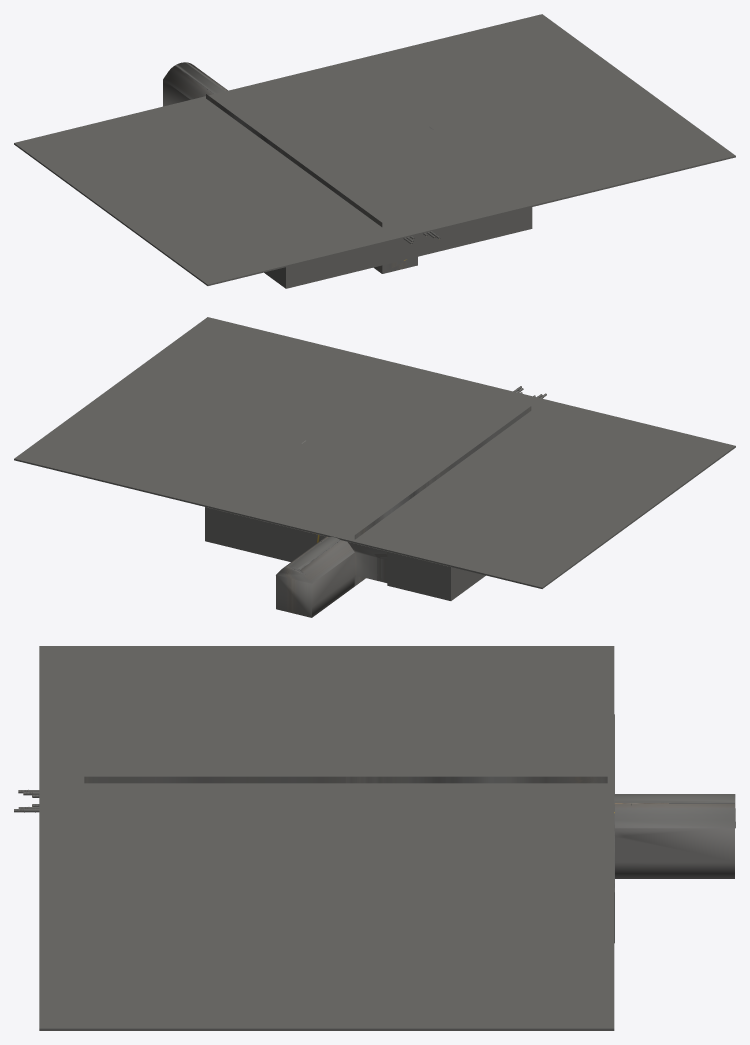
Rendered from TexFirstFloor.fbx.
3 views of the same model, one above another, from view 1: azimuth 30°, elevation 25°; view 2: azimuth 150°, elevation 25°; view 3: azimuth 270°, elevation 25° (orthographic). The views are drawn at different scales.
Parts seen in each view (by area): view 1: Ground; view 2: Ground; view 3: Ground.
Part boxes in pixels (<box>): Ground: <box>14,14,735,288</box>; Ground: <box>14,317,735,617</box>; Ground: <box>14,646,735,1030</box>.
Bounding box in the file's own units: 72173 × 6707 × 57556.
